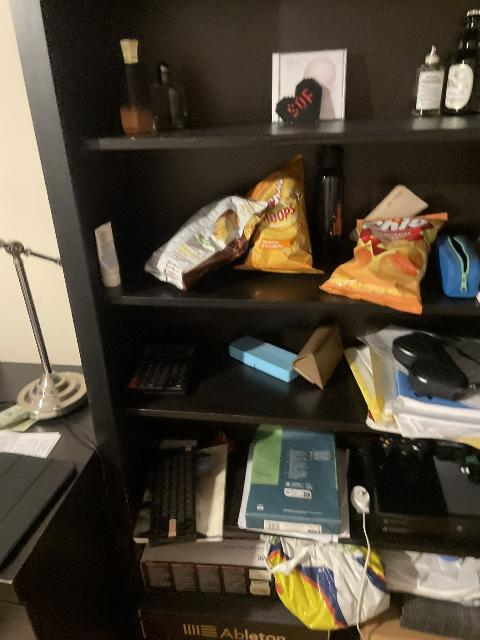Chio Cascaval 125g: (318, 211, 444, 314)
Chio Hula Hoops Cheese 70g: (227, 154, 315, 275)
Lays Beef Grilled Ribs 125g: (144, 194, 268, 290)
